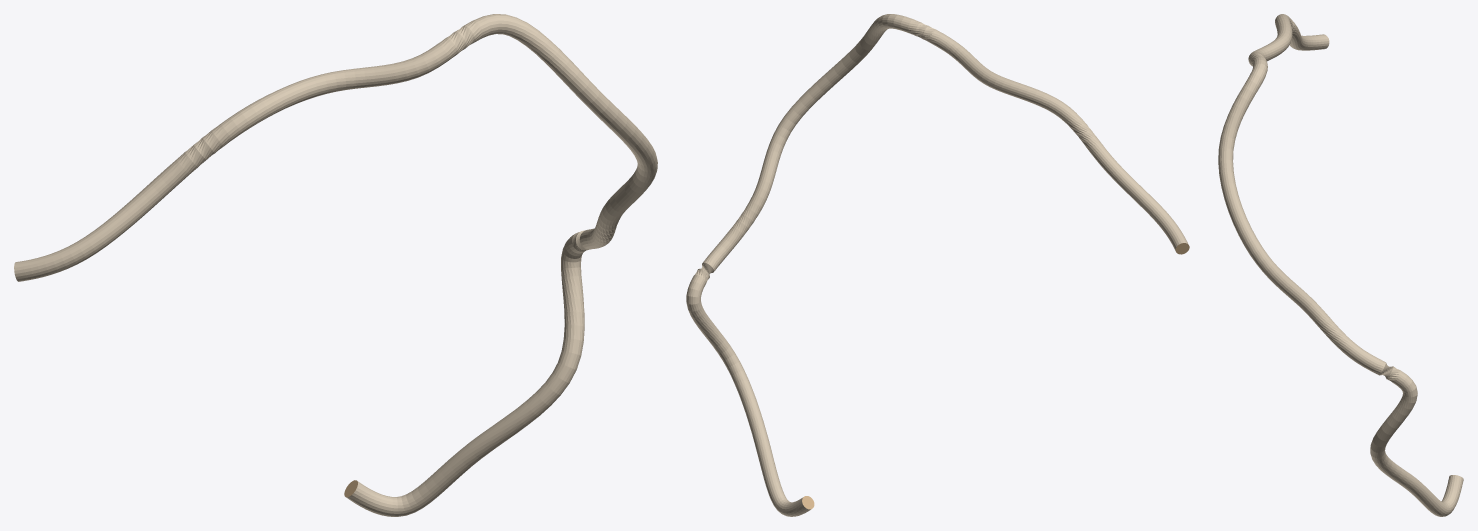
Rendered from fCoil.dae.
The picture shows the model from 3 angles, left to right: view 1: azimuth 30°, elevation 25°; view 2: azimuth 150°, elevation 25°; view 3: azimuth 270°, elevation 25°; orthographic projection. The views are drawn at different scales.
Parts seen in each view (by area): view 1: Shape_IndexedTriangleStripSet_014; view 2: Shape_IndexedTriangleStripSet_014; view 3: Shape_IndexedTriangleStripSet_014.
Part boxes in pixels (left/top/right/bottom): Shape_IndexedTriangleStripSet_014: left=14, top=14, right=657, bottom=516; Shape_IndexedTriangleStripSet_014: left=686, top=14, right=1189, bottom=516; Shape_IndexedTriangleStripSet_014: left=1218, top=14, right=1463, bottom=516.
Size of the model in its own units: 6.84 by 3.14 by 6.24.
